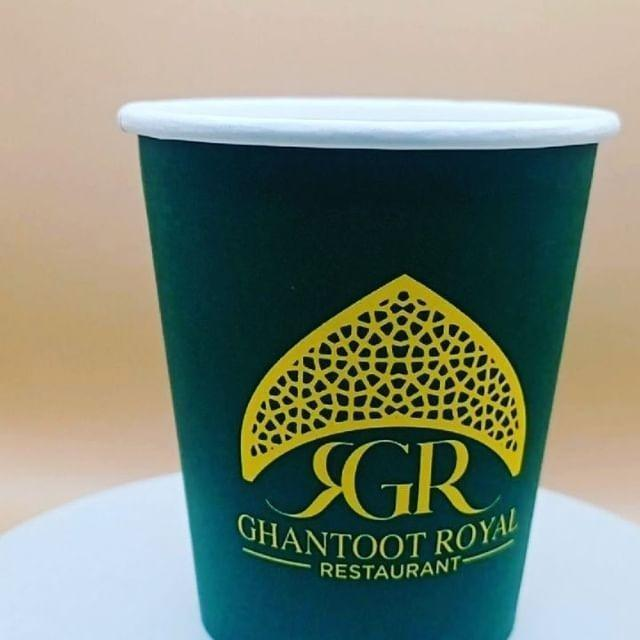cup-disposable: (109, 82, 619, 640)
